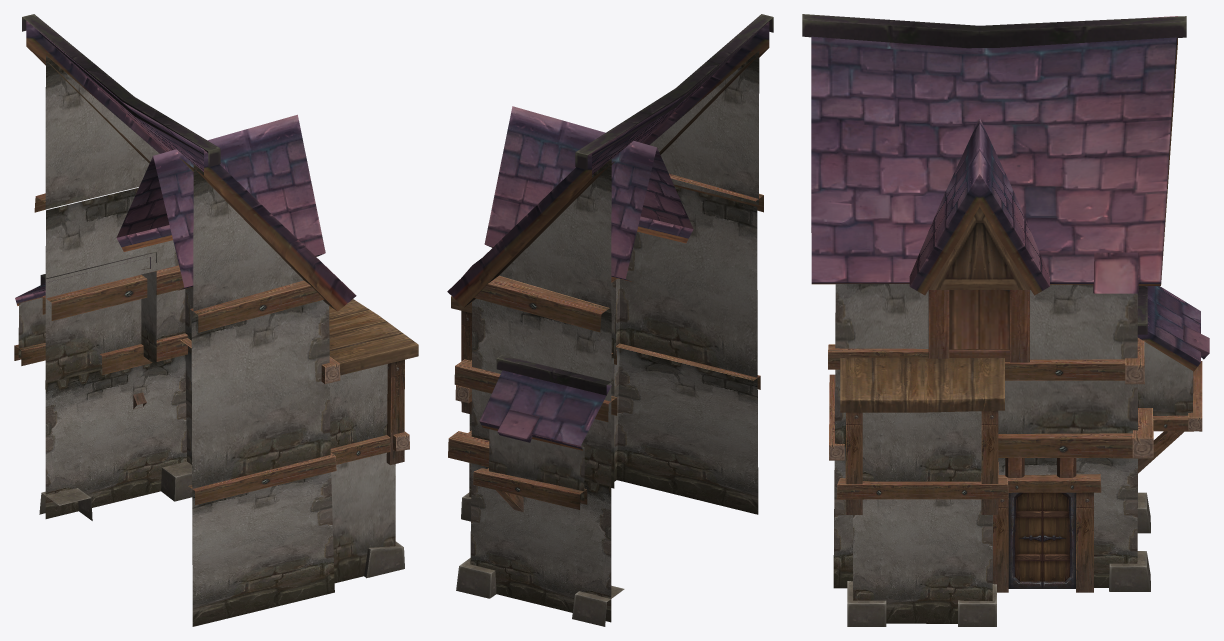
Rendered from building_city_zhuchengminfang03.FBX.
3 views of the same model, side by side, from view 1: azimuth 30°, elevation 25°; view 2: azimuth 150°, elevation 25°; view 3: azimuth 270°, elevation 25° (orthographic). The views are drawn at different scales.
Visible parts, largest first — view 1: building_city_zhuchengminfang03; view 2: building_city_zhuchengminfang03; view 3: building_city_zhuchengminfang03.
Boxes of the visible parts, x1,y1,x2,y2 form: building_city_zhuchengminfang03: (14,14,418,626); building_city_zhuchengminfang03: (447,14,773,626); building_city_zhuchengminfang03: (802,14,1209,626).
Bounding box in the file's own units: 5.96 × 8.91 × 12.12.
